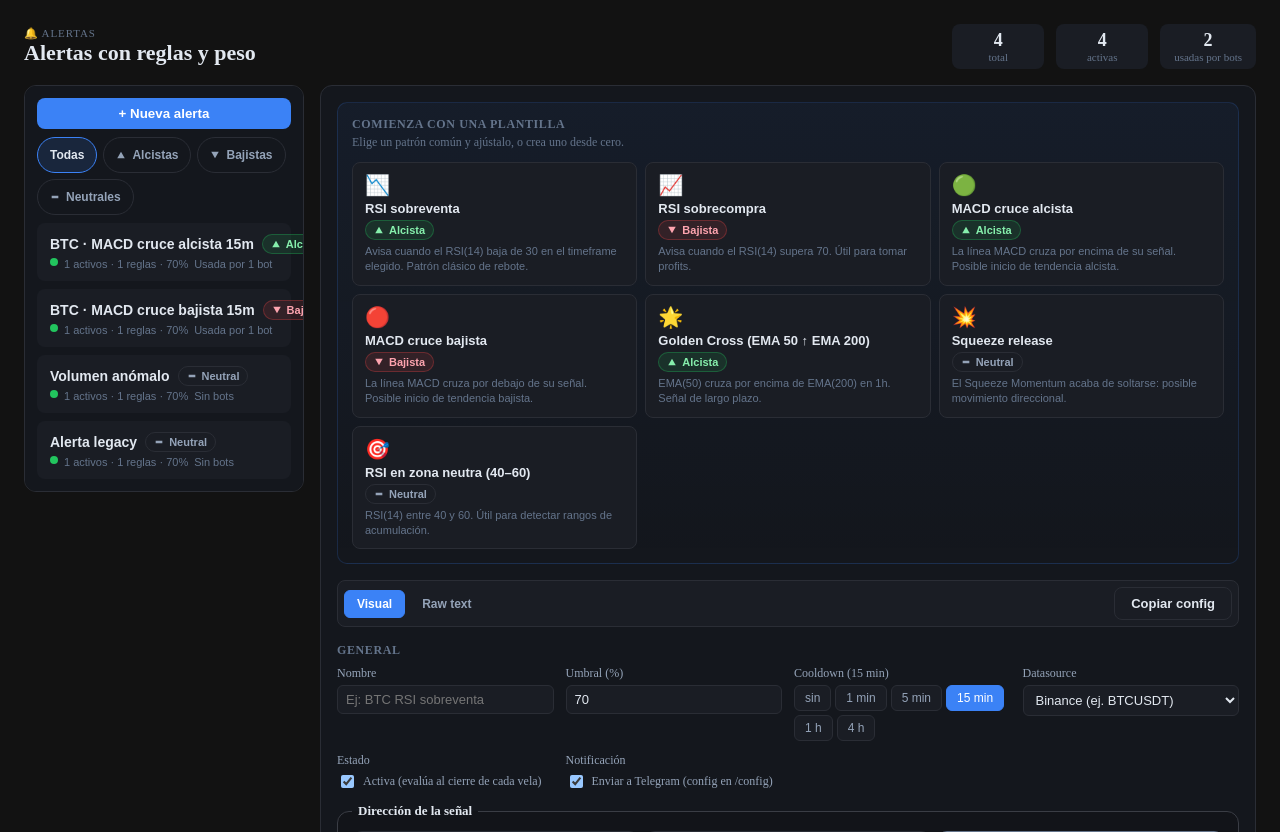
Scenario: AlertsPage · dirección (escritorio) › carga la dirección de la alerta y muestra «Usada por» con sus bots
The width and height of the screenshot is (1280, 832).
expect the 1st text "Usada por 1 bot" is shown: met, box [194,258,272,270]
expect the 1st text "Sin bots" is shown: met, box [194,390,234,402]
Click the button "BTC · MACD cruce bajista 15m": click(164, 318) [37,289,291,347]
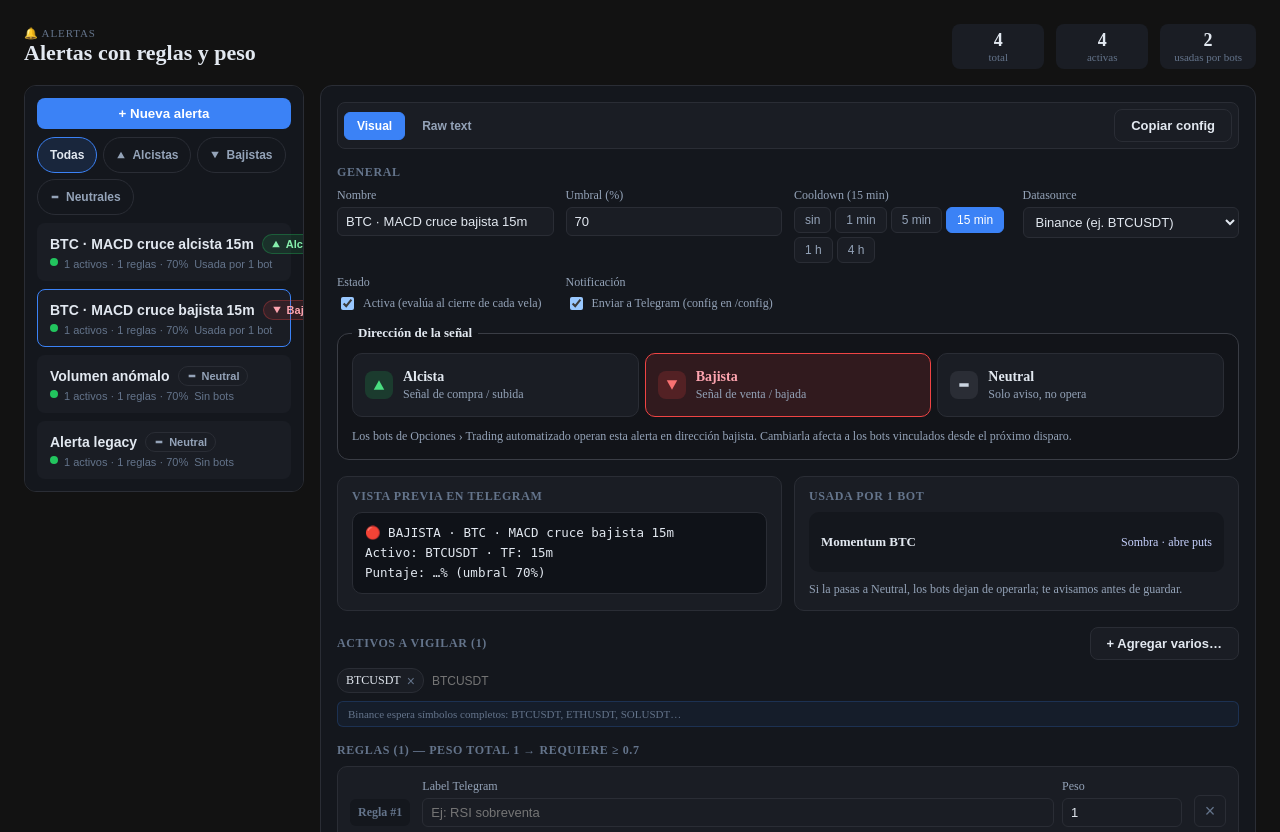
expect the element with test id "used-by" shows "Usada por 1 bot": met, box [794,476,1239,611]
expect the element with test id "used-by" shows "Sombra · abre puts": met, box [794,476,1239,611]
